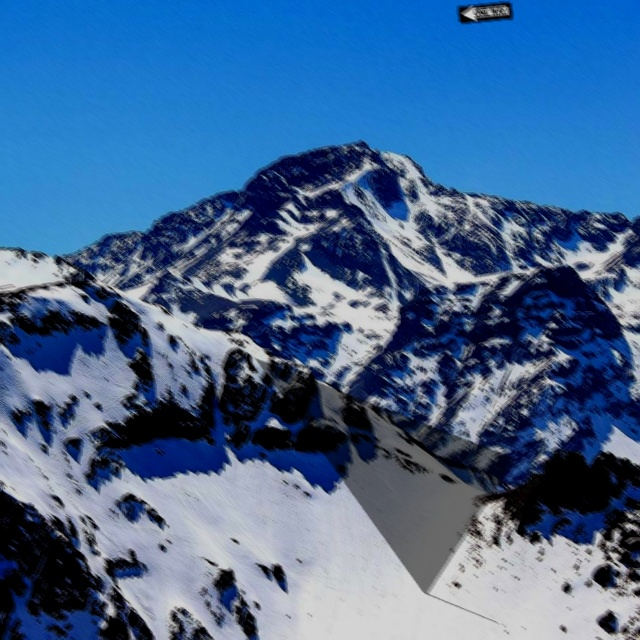ONE_WAY_ left: (457, 2, 512, 24)
